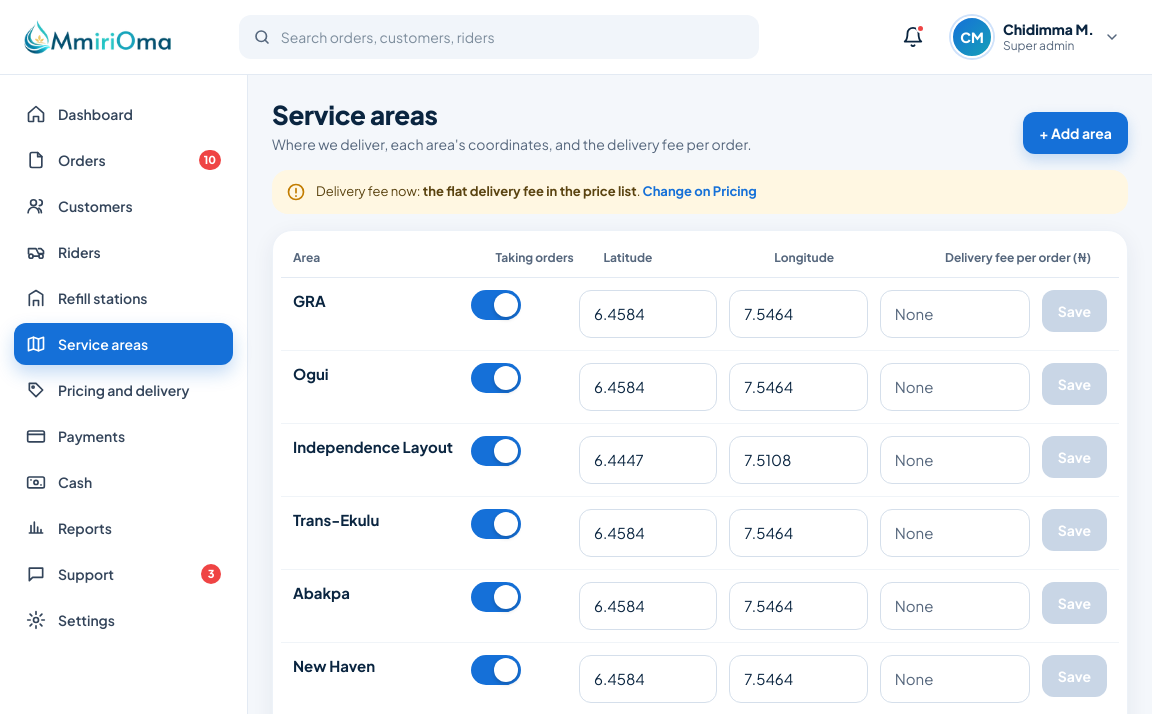
Test case: Service areas screen (Z4, #111) › refuses a missing or out-of-range coordinate with the Z4 messages, and saves nothing
The width and height of the screenshot is (1152, 714).
Expected: the text "GRA" is shown, [293,291,326,310]
Click the button "+ Add area".
click(1076, 134)  # box [1023,112,1128,154]
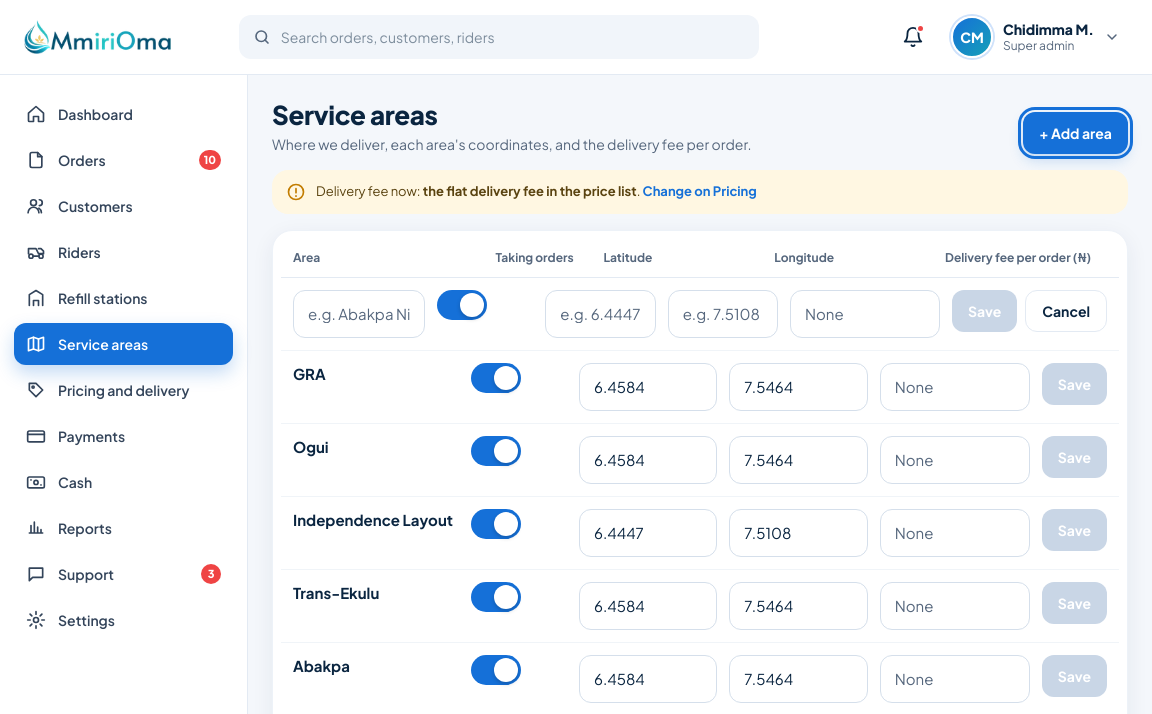
Type "Abakpa Nike" into the field with placeholder "e.g. Abakpa Nike".
click(359, 314); type("Abakpa Nike")  # box [293,290,425,338]
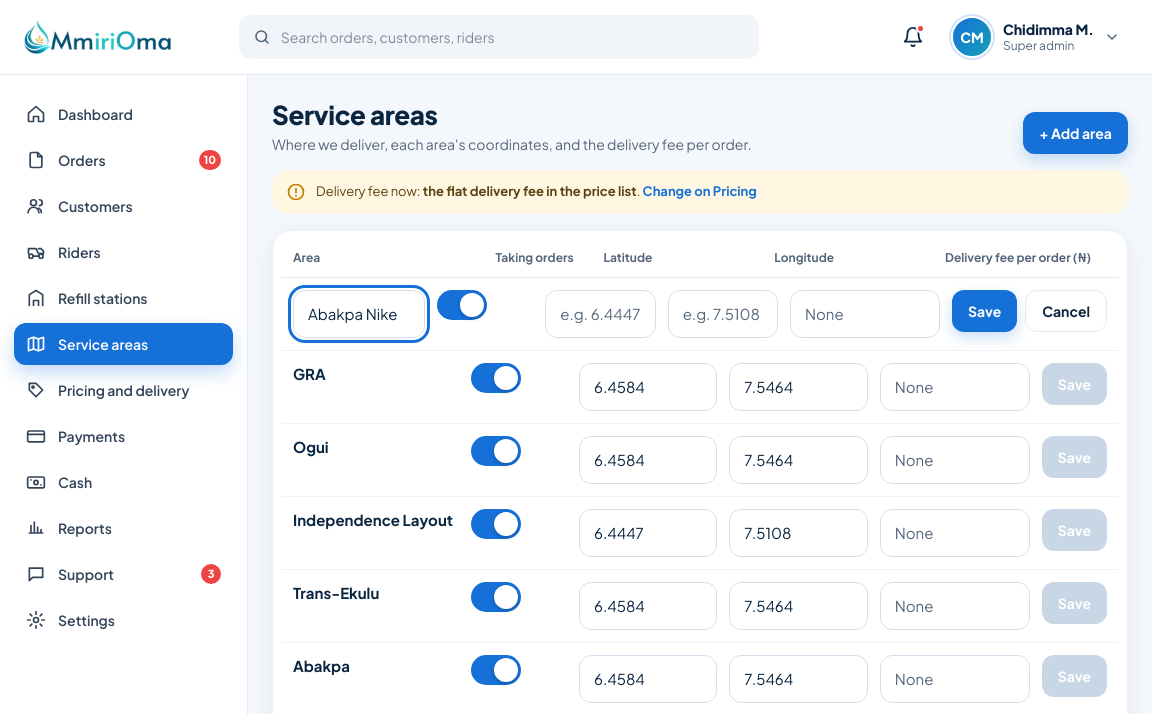
Type "95" into the field with placeholder "e.g. 6.4447".
click(600, 314); type("95")  # box [545,290,656,338]
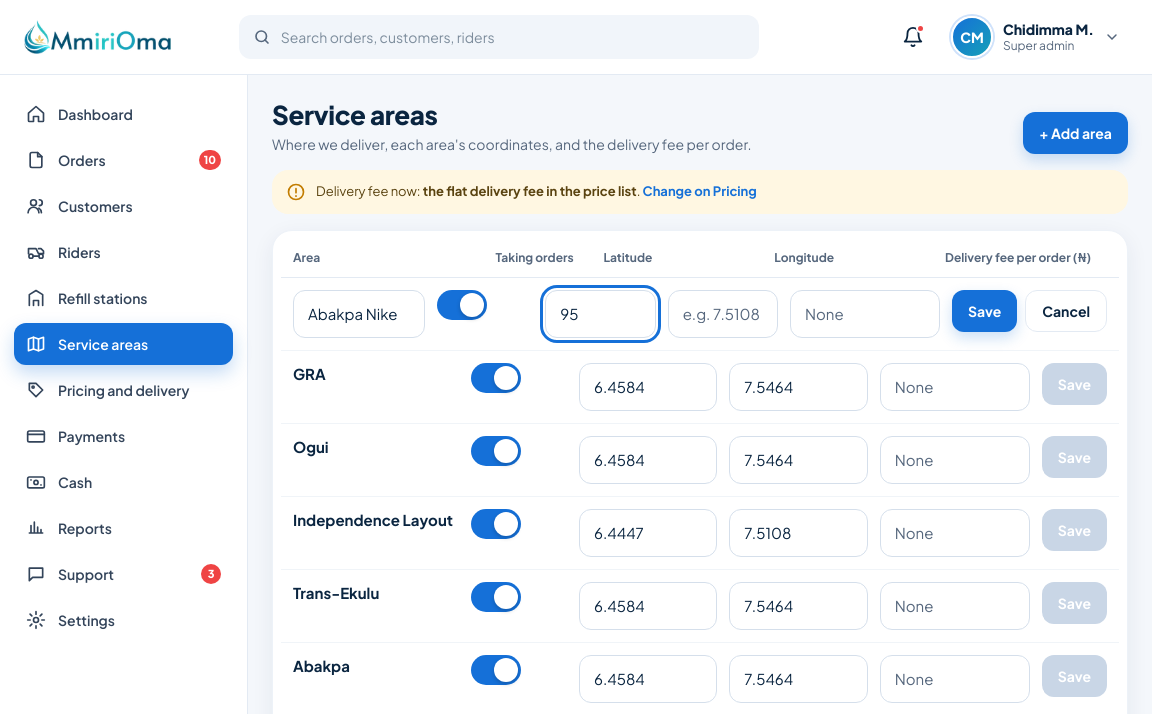
Click the 1st button "Save".
click(985, 311)  # box [952,290,1017,332]
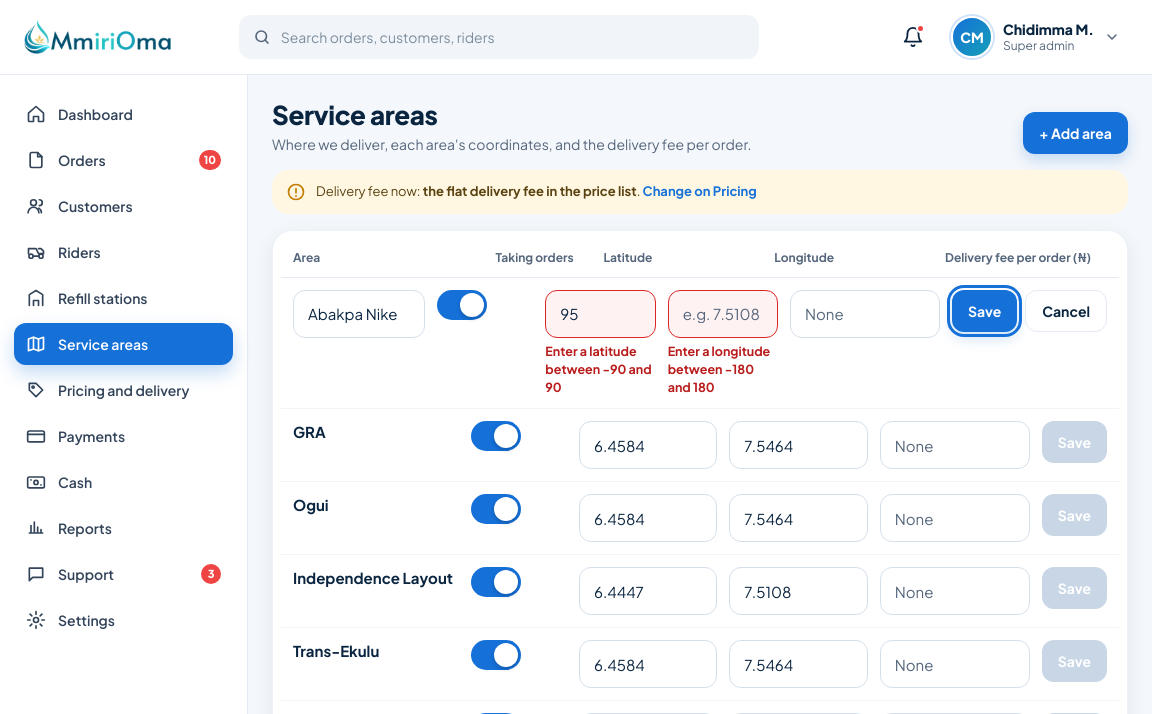
Result: the text "Enter a latitude between -90 and 90" is shown at [545,342,656,396]
Result: the text "Enter a longitude between -180 and 180" is shown at [668,342,778,396]
